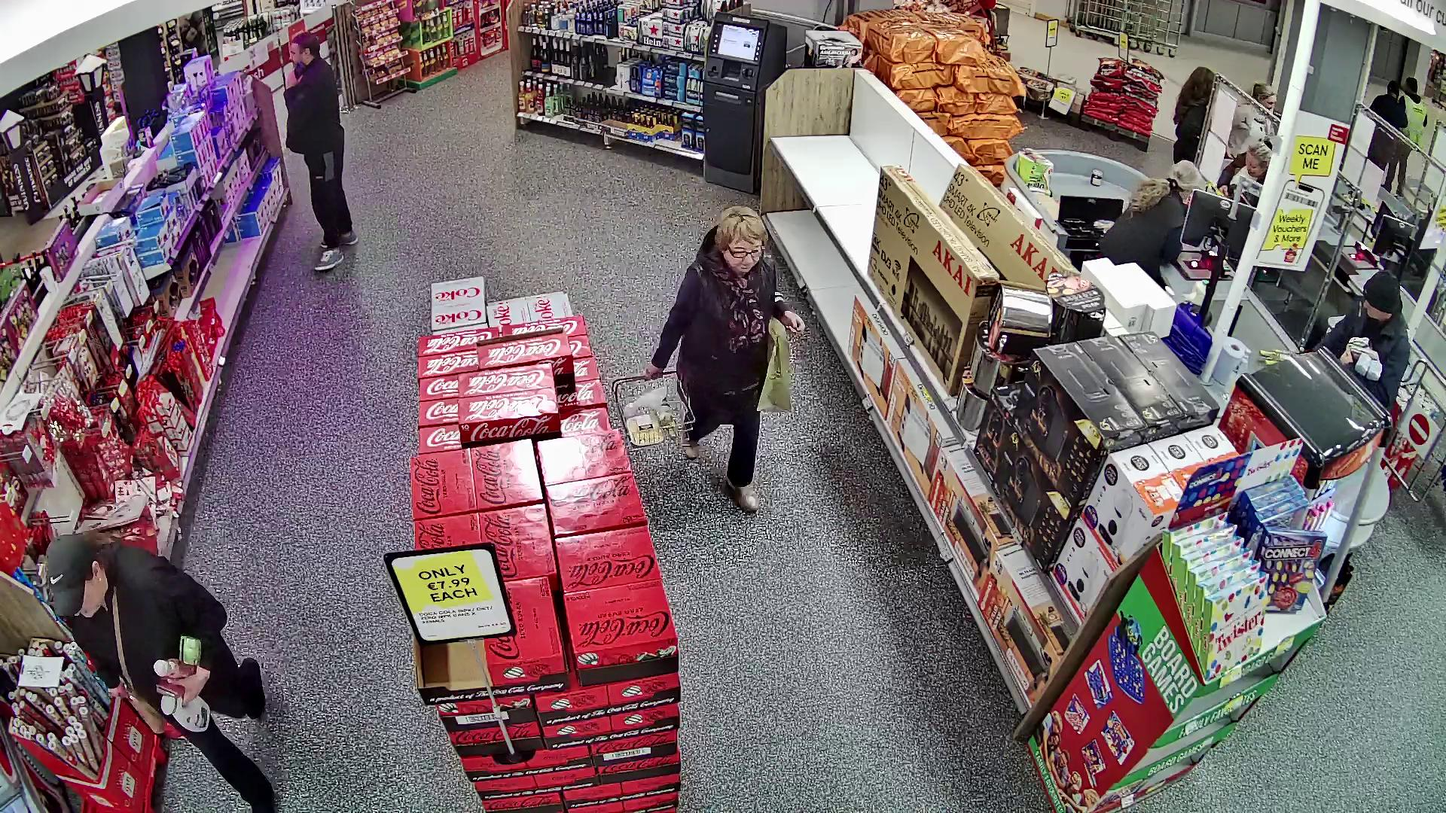backpack-or-handbag: (123, 681, 166, 736)
carrying-item: (151, 631, 214, 733)
filled-basket: (608, 364, 697, 453)
filled-shopping-bags: (754, 315, 801, 412)
occupied-checkout-counter: (1051, 161, 1256, 305)
person: (44, 532, 275, 813), (646, 206, 805, 514)
person-with-backpack-handbag-and-carrying-item-s-: (43, 530, 275, 812)
person-with-basket-trolly-and-shopping-bag: (608, 205, 805, 512)
